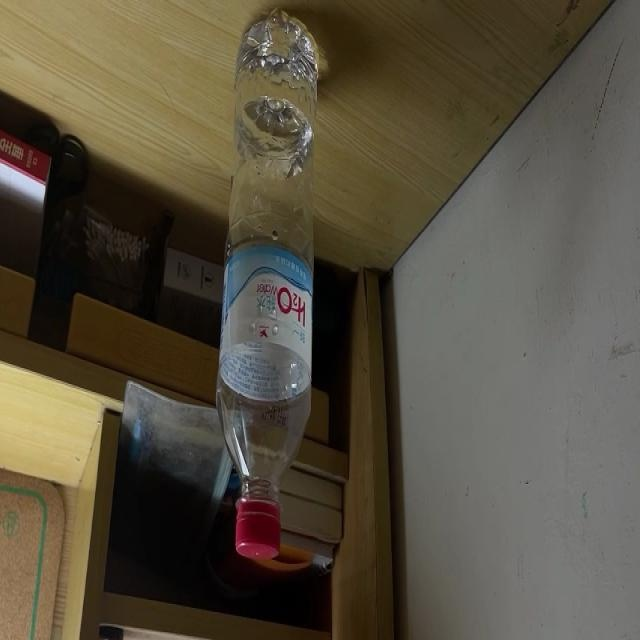Water: (216, 10, 319, 563)
